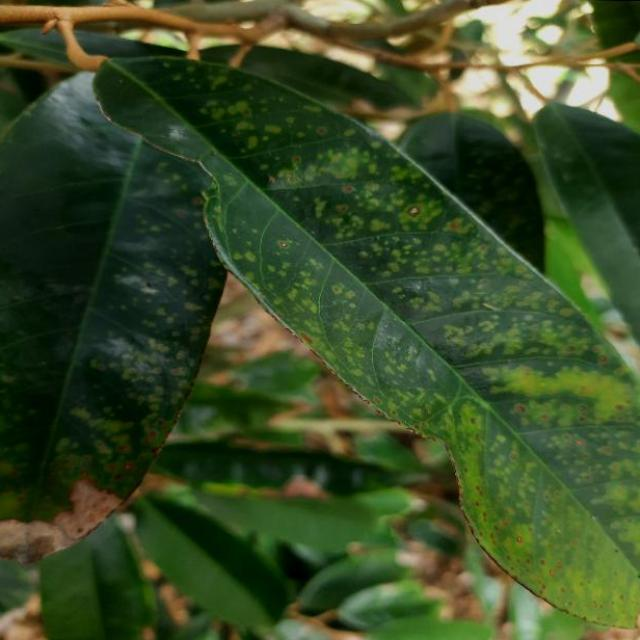Leaf Spot: (78, 50, 640, 640), (0, 61, 236, 572)
